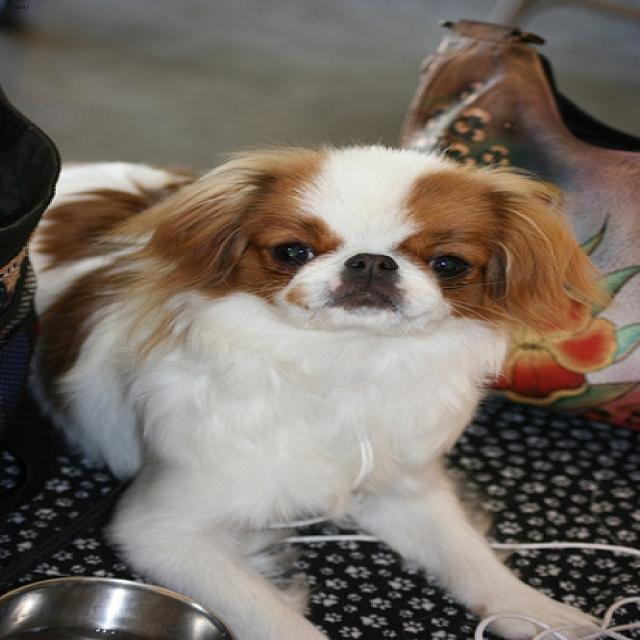dog-japanese_chin: (13, 136, 623, 637)
